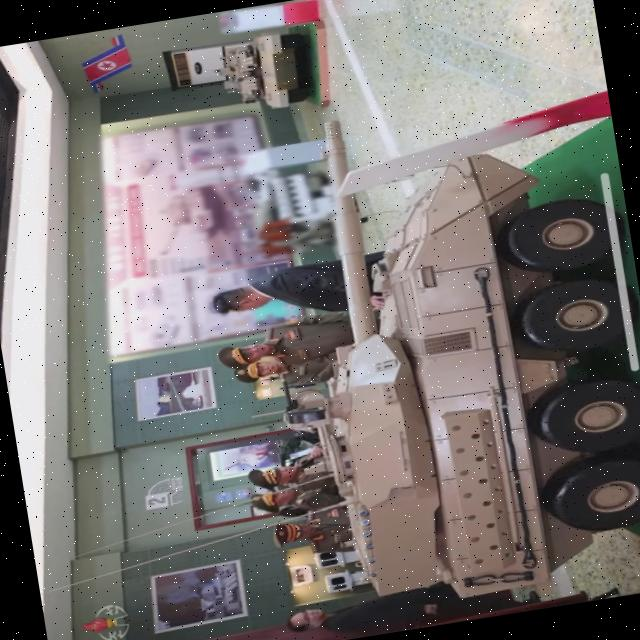north tank: (231, 77, 640, 631)
